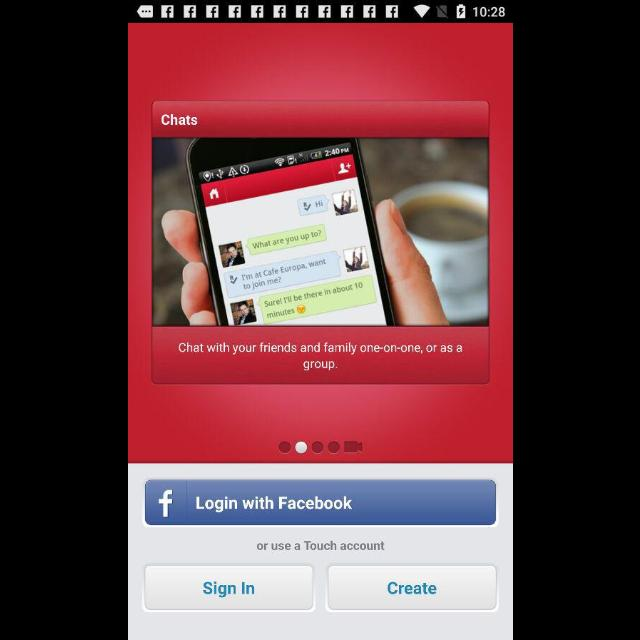image: (152, 138, 488, 326)
pageindicator: (278, 440, 362, 454)
text: (178, 342, 462, 372), (256, 540, 386, 552), (160, 114, 197, 126)
textbutton: (144, 478, 496, 526), (144, 566, 314, 610), (328, 566, 497, 610)
uppertaskbar: (128, 1, 512, 23)
